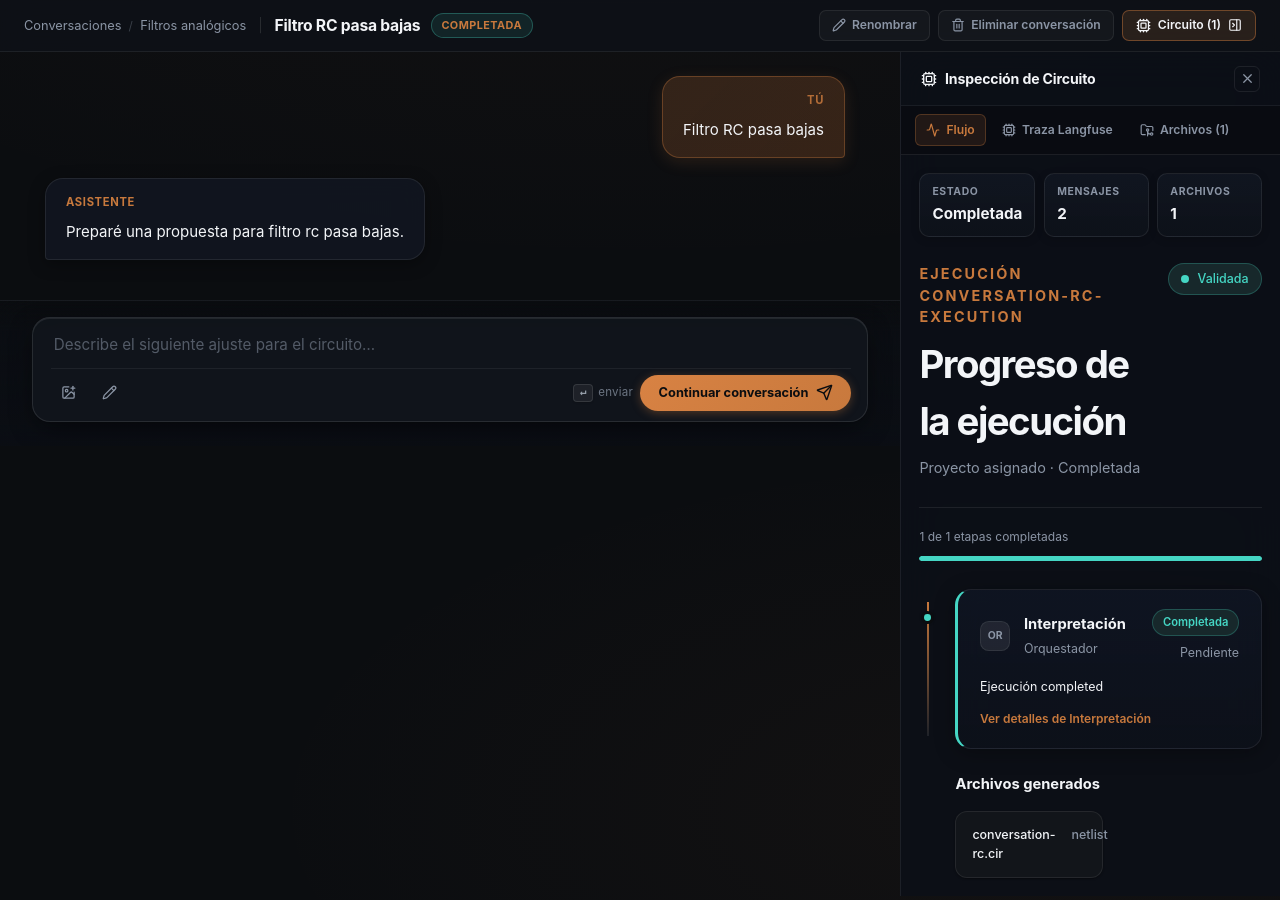
ConversationScreen › permite colapsar y abrir el panel lateral de circuito e inspección
Check: the element named "Panel de inspección y circuitos" is shown, box [900,52,1279,896]
Click the button with aria-label "Ocultar panel lateral": point(1189, 26) [1122,10,1256,41]
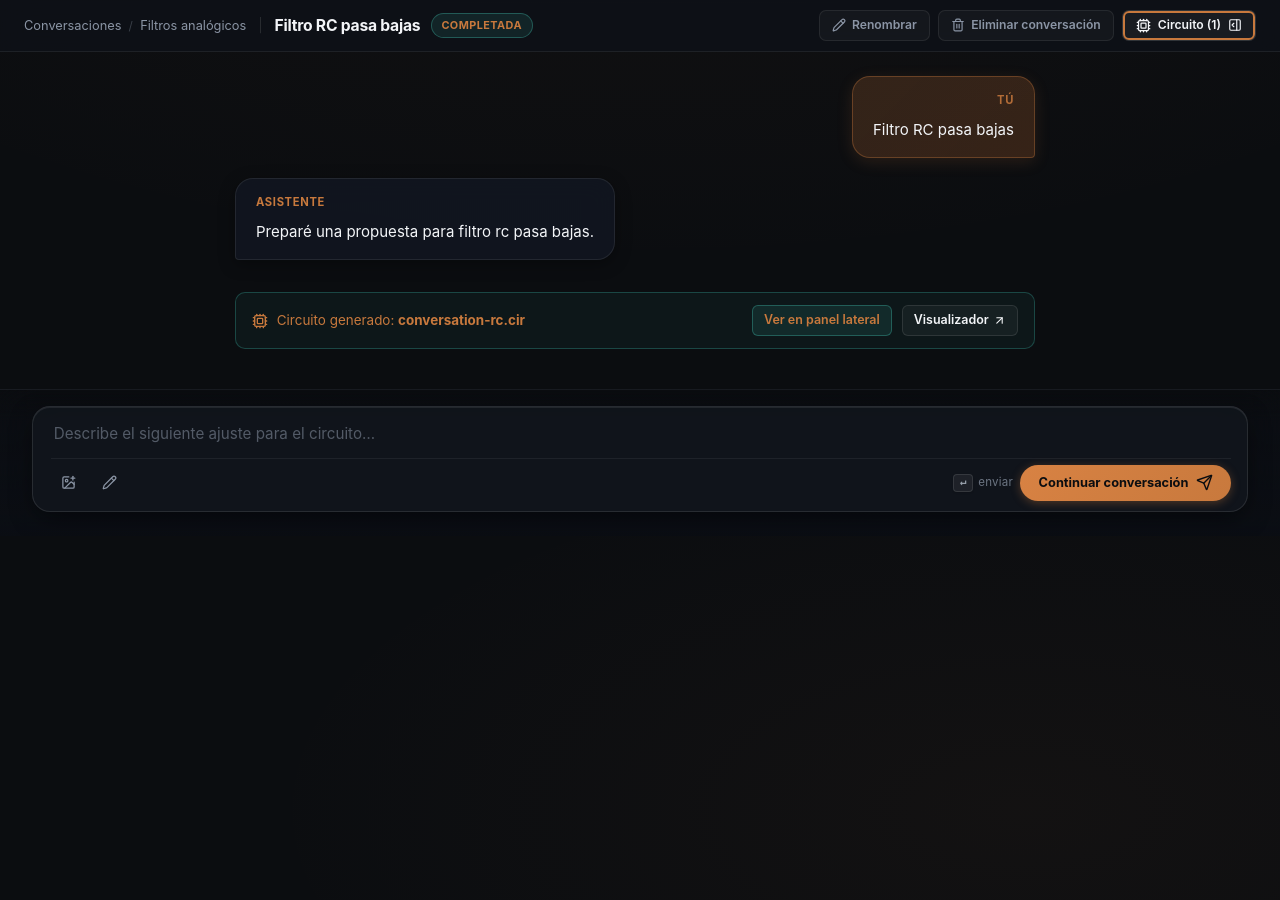
Check: the button with aria-label "Mostrar panel lateral" is shown
Click the button with aria-label "Mostrar panel lateral": point(1189, 26) [1122,10,1256,41]
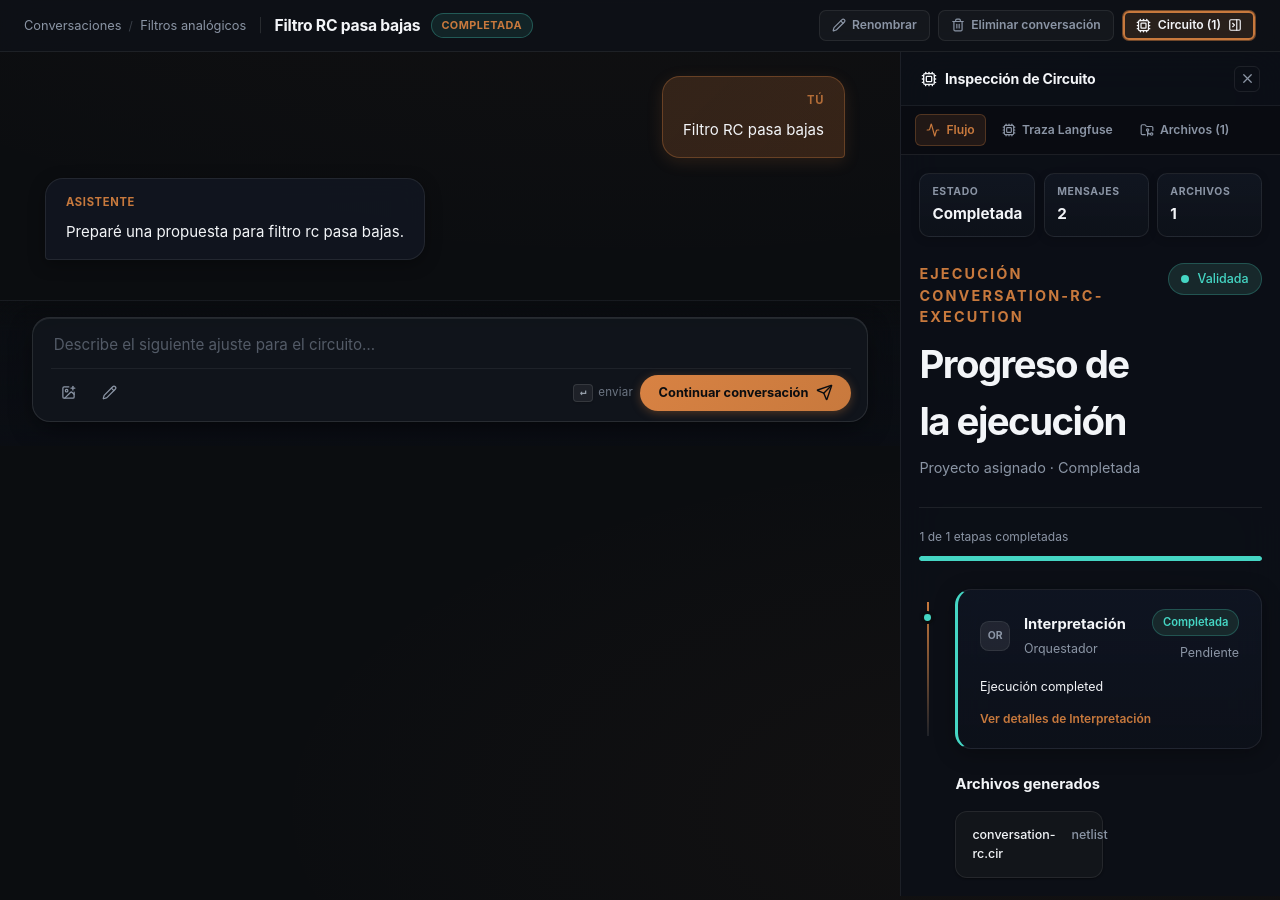
Check: the element named "Panel de inspección y circuitos" is shown, box [900,52,1279,896]
